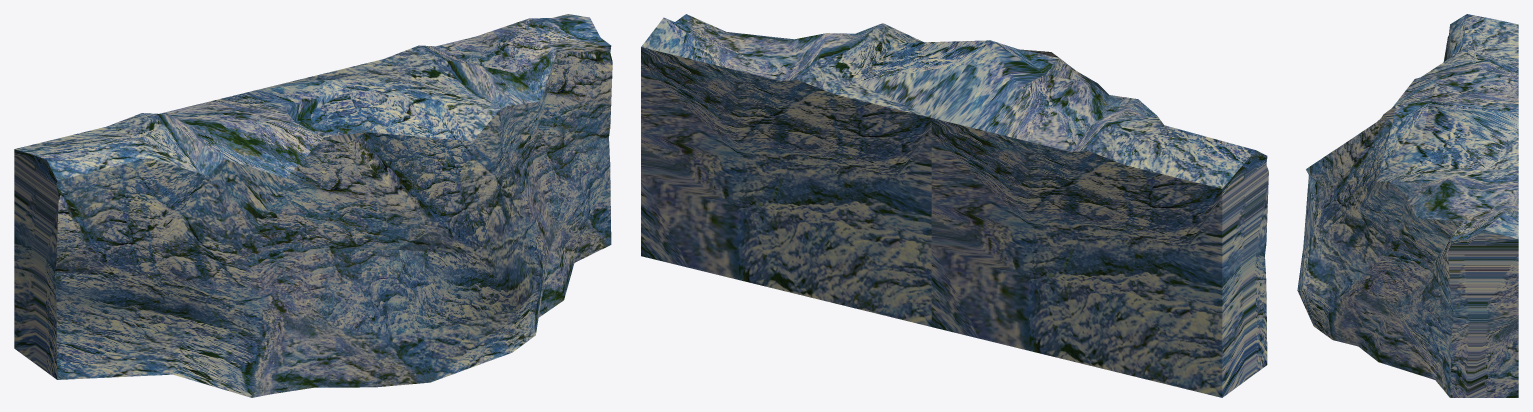
The model's file is rockWall_bulge_05.fbx.
3 renders of one model, left to right at view 1: azimuth 30°, elevation 25°; view 2: azimuth 150°, elevation 25°; view 3: azimuth 270°, elevation 25°, orthographic. The views are drawn at different scales.
Parts seen in each view (by area): view 1: polySurface1; view 2: polySurface1; view 3: polySurface1.
Part boxes in pixels (bbox=[...]): polySurface1: bbox=[14, 14, 612, 397]; polySurface1: bbox=[641, 14, 1268, 397]; polySurface1: bbox=[1297, 14, 1518, 397].
Bounding box in the file's own units: 32 × 12.81 × 13.91.
